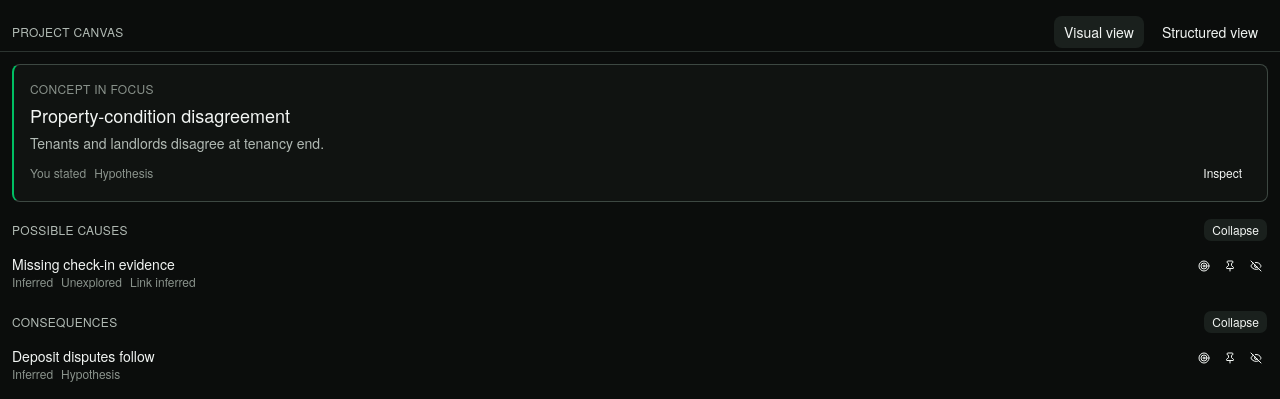
Test case: problem-exploration renderer › hides a related object and reports the count
The width and height of the screenshot is (1280, 399).
Click the button named "Hide Missing check-in evidence" at coordinates (1256, 266), box x1=1244 y1=254 x2=1268 y2=278
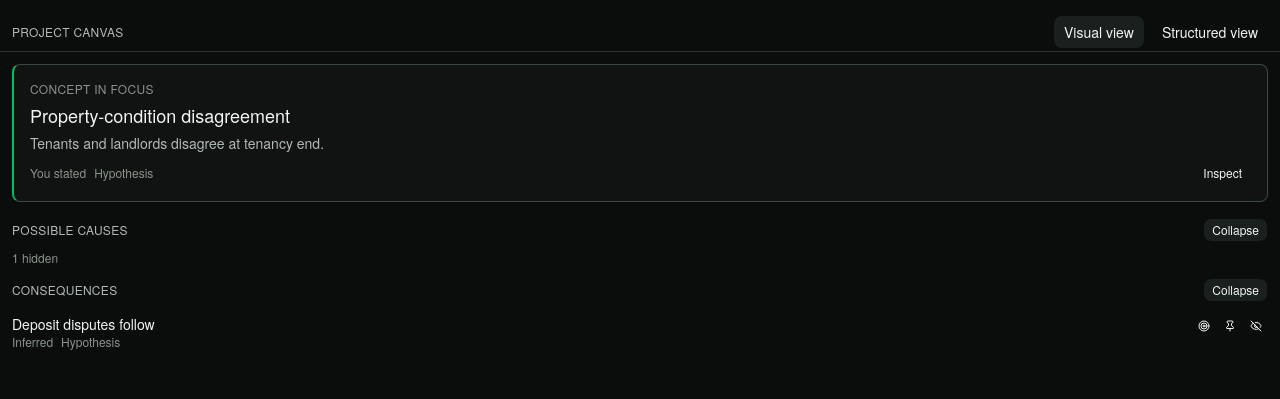
Now the text "1 hidden" is shown, box x1=12 y1=249 x2=58 y2=266
